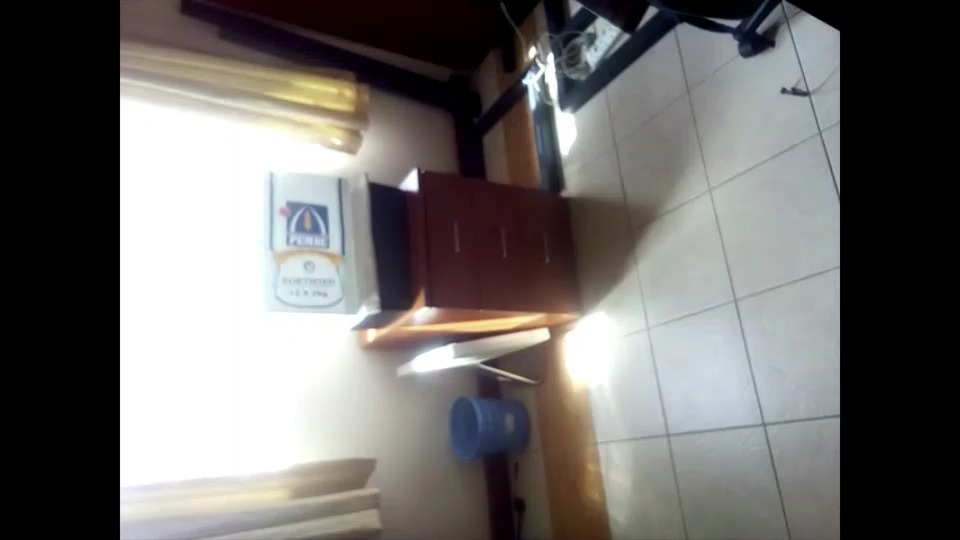wheat_flour_blue_label: (265, 167, 375, 308)
